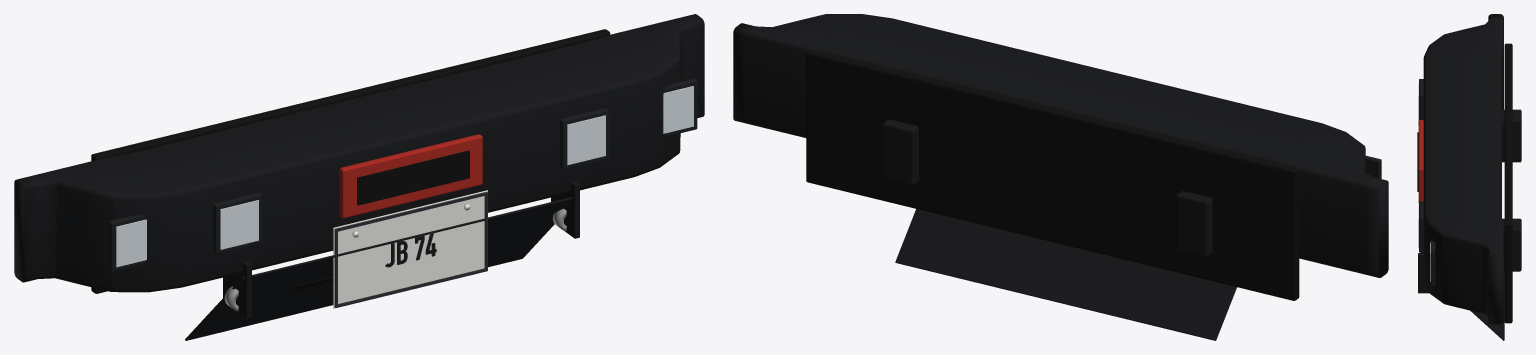
Rendered from frontBumper_outclass_t2.glb.
The picture shows the model from 3 angles, left to right: view 1: azimuth 30°, elevation 25°; view 2: azimuth 150°, elevation 25°; view 3: azimuth 270°, elevation 25°; orthographic projection. The views are drawn at different scales.
Visible parts, largest first — view 1: body.001, plate.001, apron, valance.001, fairleadFrame, fairleadSlot, podLens370, podLens-370, podLens-575, podLens575, pod-370, pod370 (+7 smaller); view 2: valance.001, body.001, apron, mount1.001, mount-1.001; view 3: body.001, valance.001, mount-1.001, mount1.001, fairleadFrame, apron, tab1, pod575, pod370, pod-370, fairleadSlot.
Part boxes in pixels (x1,y1,x2,y2): body.001: [14, 14, 704, 292]; plate.001: [333, 190, 487, 308]; apron: [185, 197, 572, 340]; valance.001: [91, 29, 610, 293]; fairleadFrame: [339, 134, 482, 218]; fairleadSlot: [357, 150, 469, 205]; podLens370: [567, 115, 605, 165]; podLens-370: [220, 200, 258, 249]; podLens-575: [116, 219, 146, 267]; podLens575: [663, 86, 693, 133]; pod-370: [213, 192, 262, 254]; pod370: [560, 108, 609, 169]; valance.001: [806, 49, 1299, 300]; body.001: [733, 14, 1388, 277]; apron: [895, 209, 1236, 340]; mount1.001: [882, 119, 918, 185]; mount-1.001: [1176, 191, 1212, 257]; body.001: [1423, 14, 1503, 324]; valance.001: [1504, 43, 1512, 323]; mount-1.001: [1502, 109, 1521, 162]; mount1.001: [1502, 218, 1521, 271]; fairleadFrame: [1418, 120, 1423, 203]; apron: [1421, 252, 1504, 340]; tab1: [1418, 253, 1428, 293]; pod575: [1430, 240, 1435, 286]; pod370: [1419, 201, 1423, 252]; pod-370: [1419, 79, 1423, 120]; fairleadSlot: [1417, 132, 1418, 191].
Bounding box in the file's own units: 1.45 × 0.4171 × 0.266.
